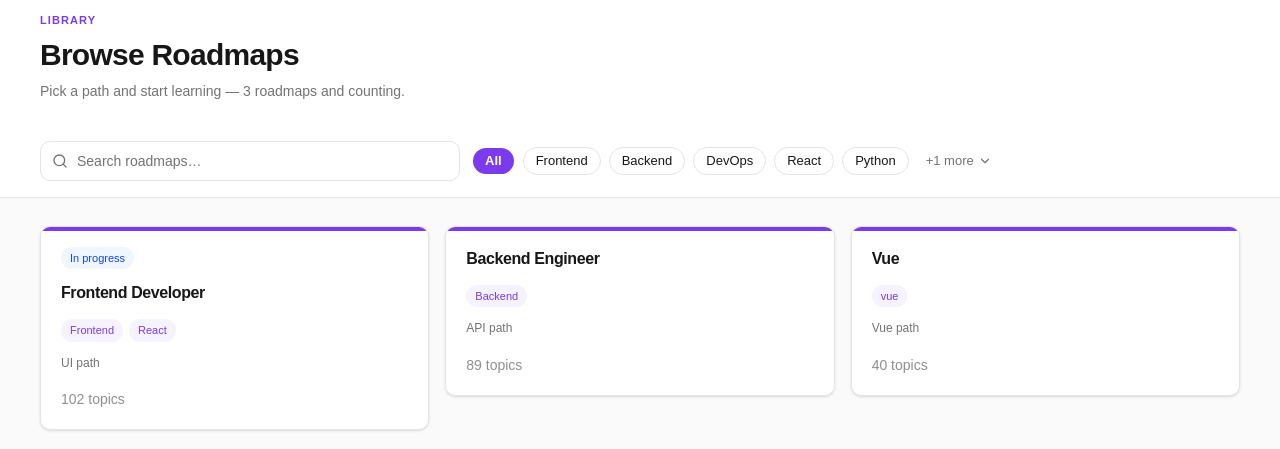
Test case: BrowsePage › shows an empty state when no roadmaps match
expect the list named "Roadmap catalog" is shown: met, box [40,226,1240,430]
Type "zzz-no-match" into the search field labelled "Search roadmaps".
click(250, 160); type("zzz-no-match")  # box [40,140,460,180]
Wait 300 ms
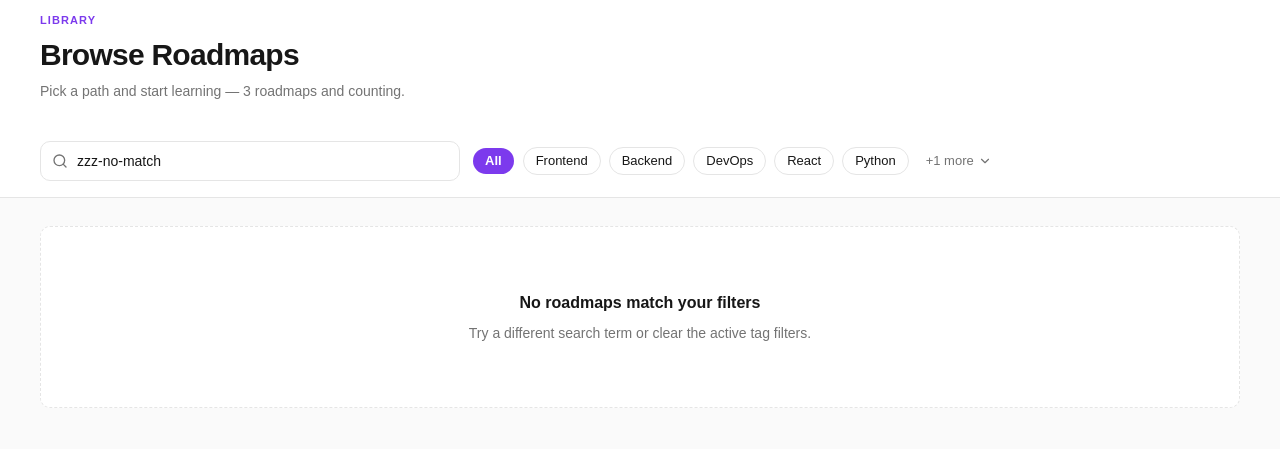
expect the text "No roadmaps match your filters" is shown: met, box [520,290,760,314]
